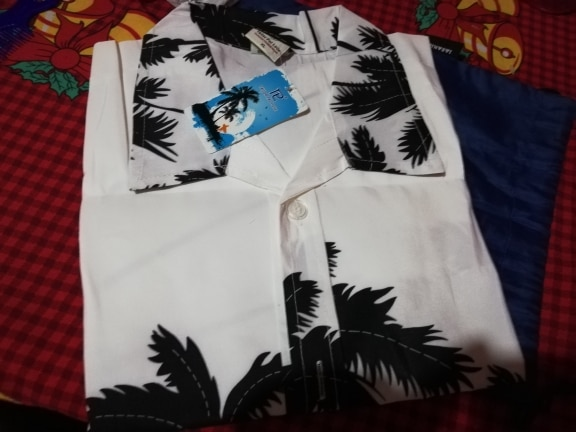shirts: (94, 4, 524, 387)
